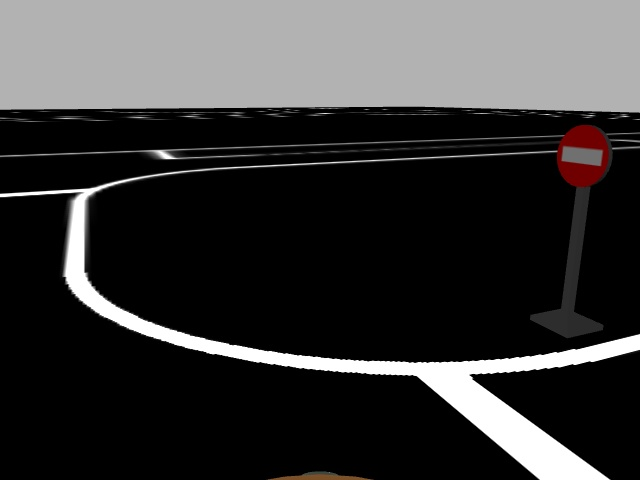prohibited: (555, 121, 614, 192)
